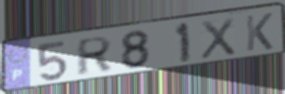1: (173, 21, 194, 66)
5: (35, 39, 70, 83)
8: (120, 29, 152, 71)
K: (244, 12, 275, 53)
R: (74, 35, 114, 78)
X: (199, 16, 238, 62)
